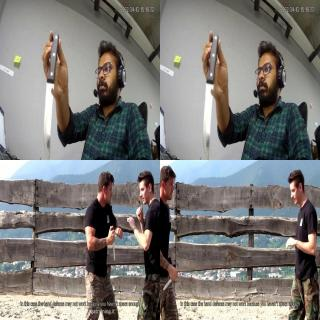knife: (37, 71, 59, 159), (202, 68, 214, 160), (162, 268, 178, 290), (108, 229, 116, 261)
